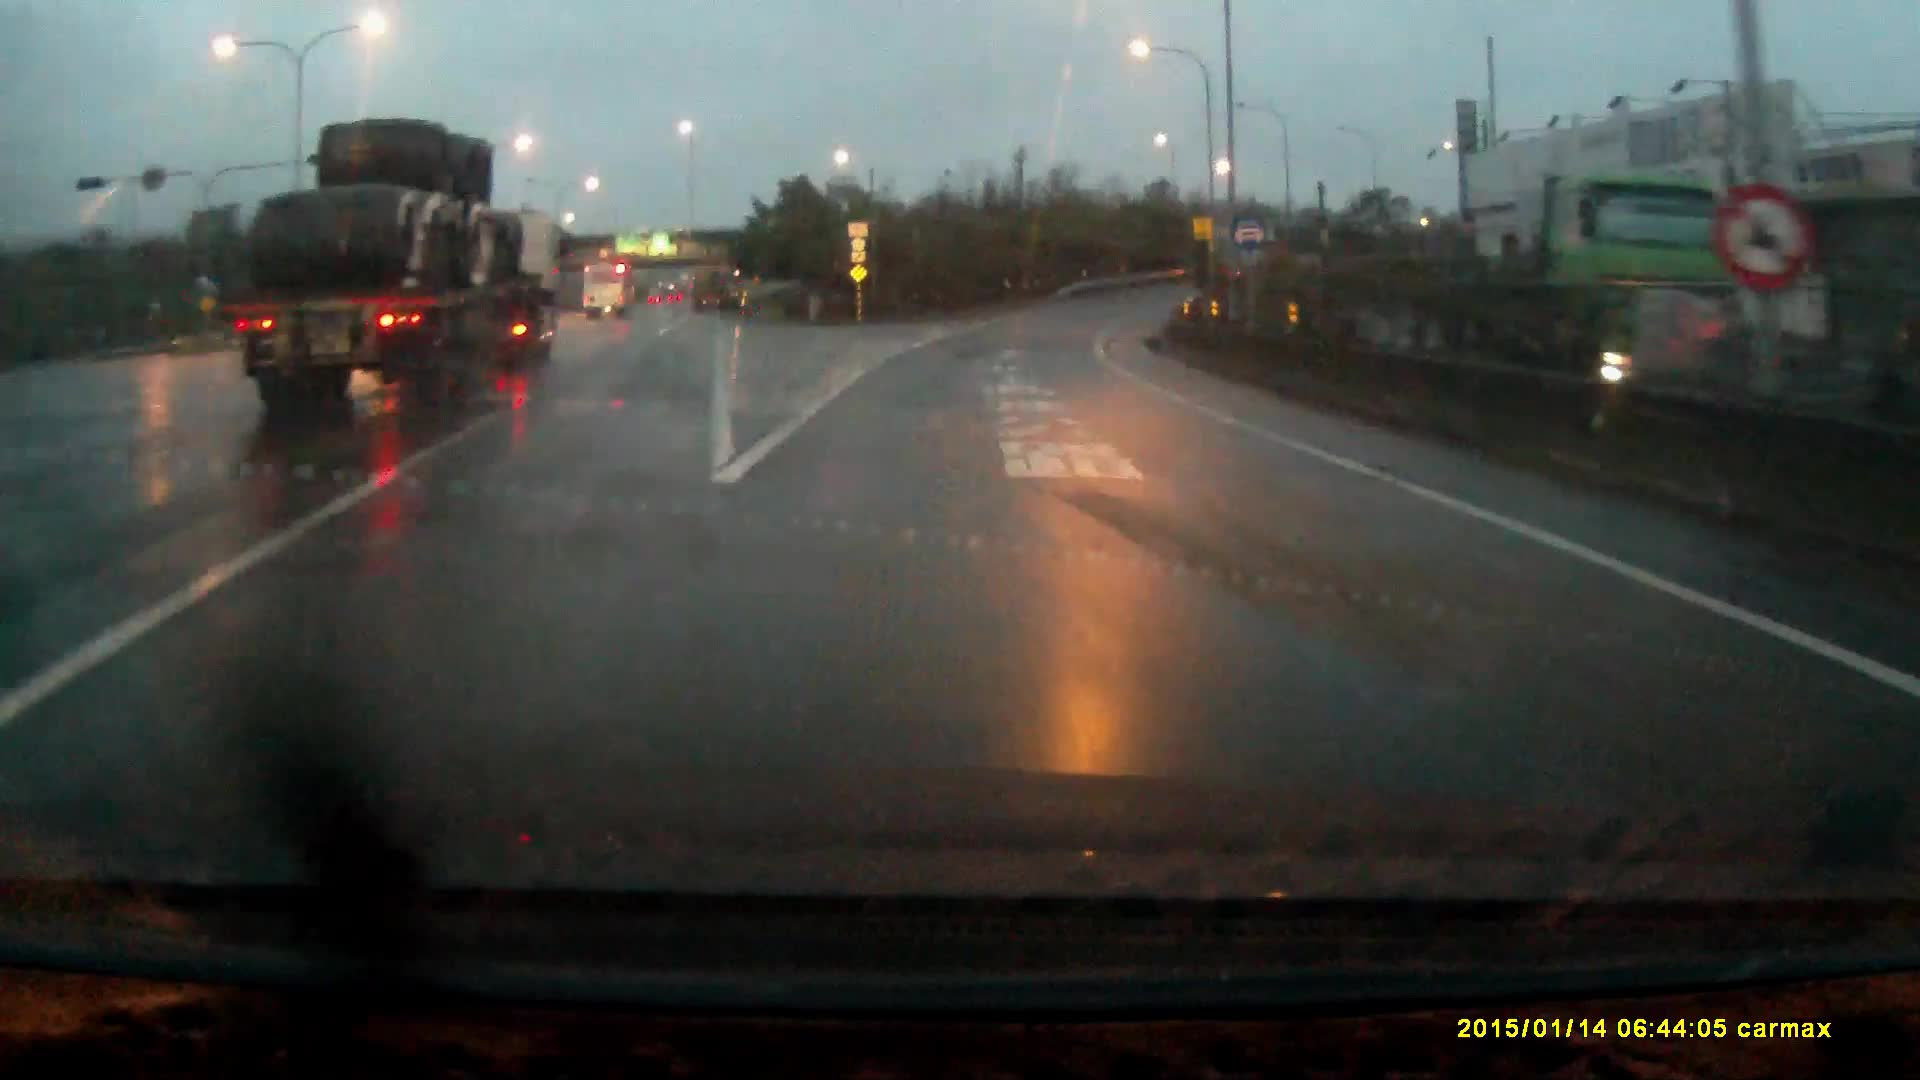vehicle: (235, 119, 566, 413), (582, 265, 637, 319)
